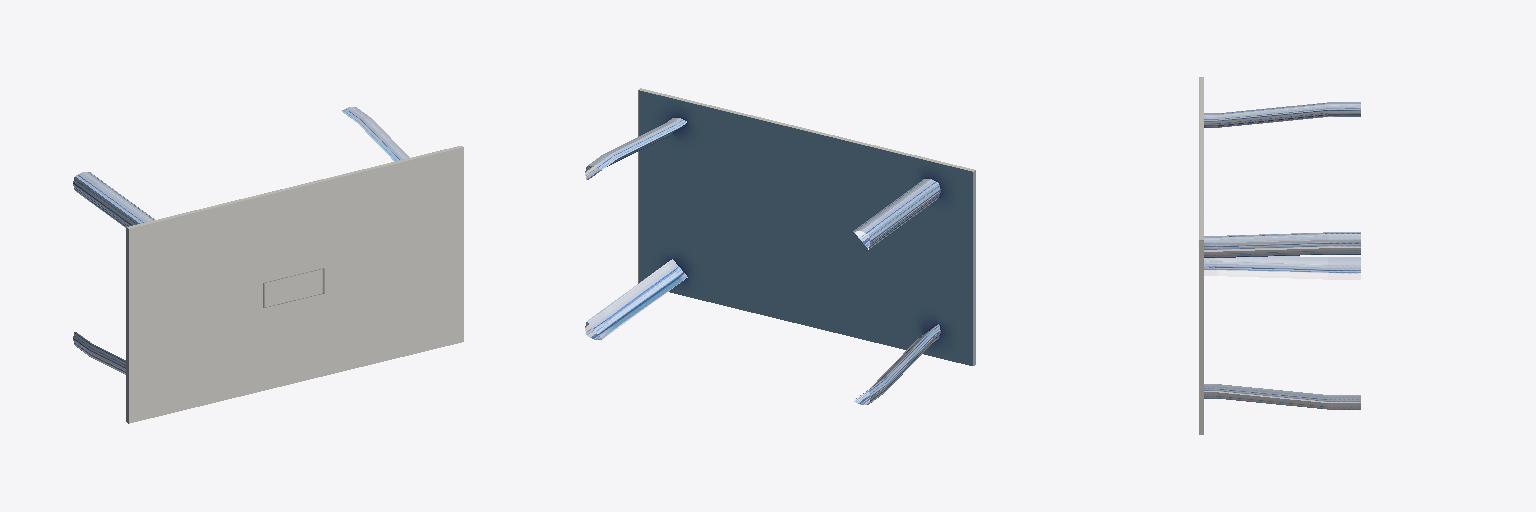
3 renders of one model, left to right at view 1: azimuth 30°, elevation 25°; view 2: azimuth 150°, elevation 25°; view 3: azimuth 270°, elevation 25°, orthographic.
Parts seen in each view (by area): view 1: table_Cube.001; view 2: table_Cube.001; view 3: table_Cube.001.
Boxes of the visible parts, x1,y1,x2,y2 form: table_Cube.001: [73, 107, 463, 423]; table_Cube.001: [585, 88, 975, 404]; table_Cube.001: [1199, 77, 1360, 434].
Size of the model in its own units: 1.8 by 1 by 0.75.
1 materials, 1 textured.